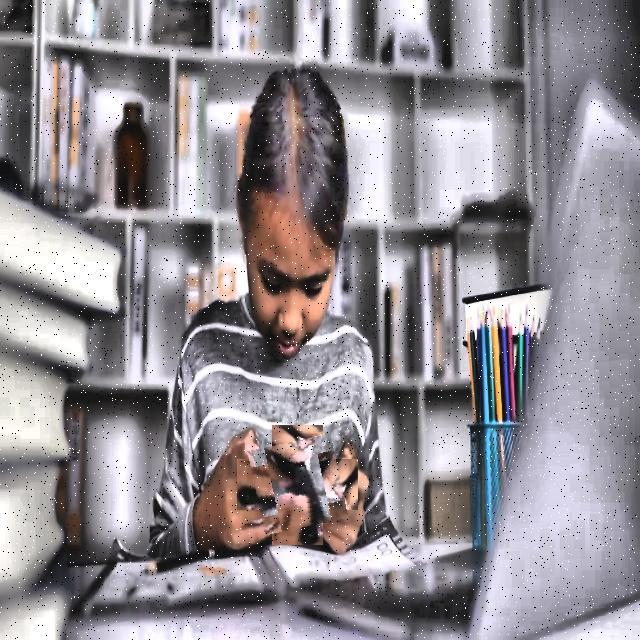Phone: (251, 438, 344, 531)
